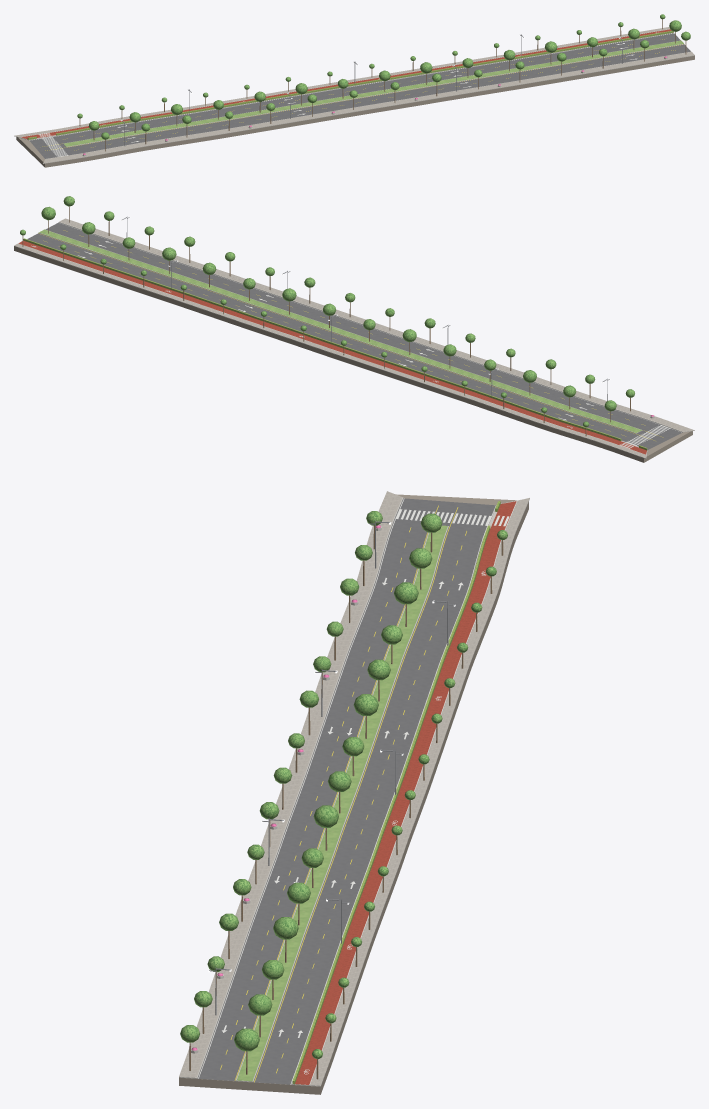
File: avenida_3.glb
3 renders of one model, top to bottom at view 1: azimuth 30°, elevation 25°; view 2: azimuth 150°, elevation 25°; view 3: azimuth 270°, elevation 25°, orthographic. The views are drawn at different scales.
Visible parts, largest first — view 1: avenida_3; view 2: avenida_3; view 3: avenida_3.
Part boxes in pixels (<box>): avenida_3: <box>14,14,694,167</box>; avenida_3: <box>14,196,694,462</box>; avenida_3: <box>179,491,529,1094</box>.
Size of the model in its own units: 236 by 10.49 by 58.98.
Materials: 14 (7 with a texture image).
